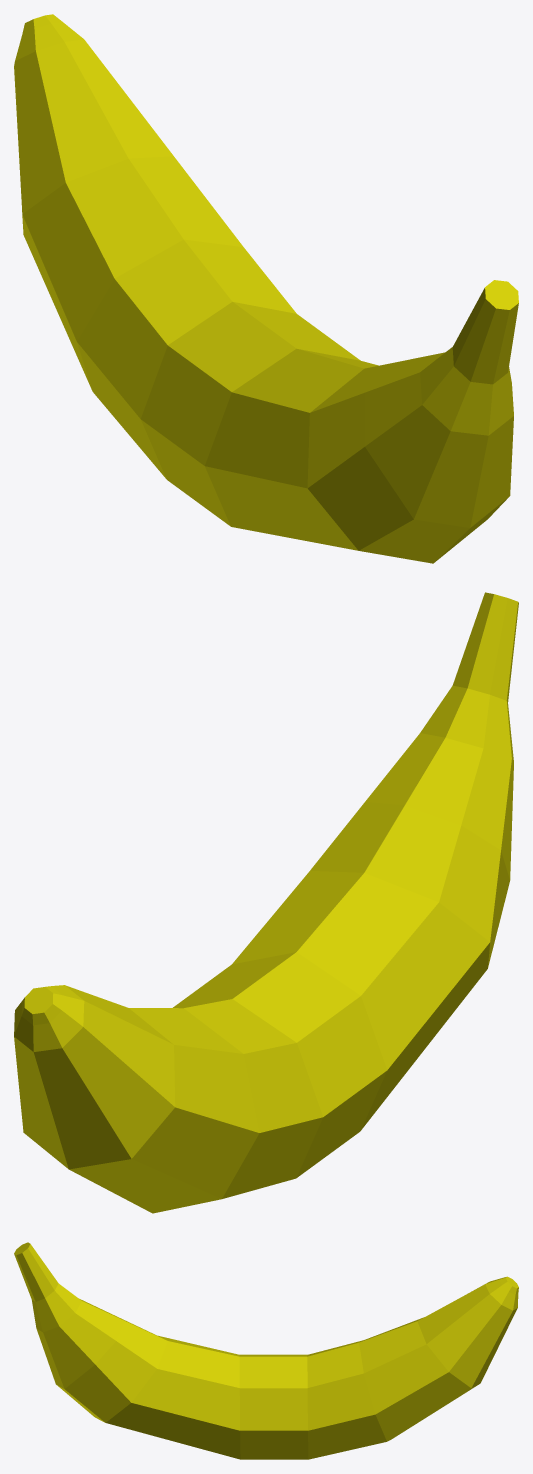
The model's file is banana_singlemat.fbx.
3 views of the same model, one above another, from view 1: azimuth 30°, elevation 25°; view 2: azimuth 150°, elevation 25°; view 3: azimuth 270°, elevation 25° (orthographic). The views are drawn at different scales.
Parts seen in each view (by area): view 1: Circle; view 2: Circle; view 3: Circle.
Boxes of the visible parts, <box> form: Circle: <box>14,14,518,563</box>; Circle: <box>14,592,518,1213</box>; Circle: <box>14,1242,518,1459</box>.
Bounding box in the file's own units: 183 × 387 × 827.
